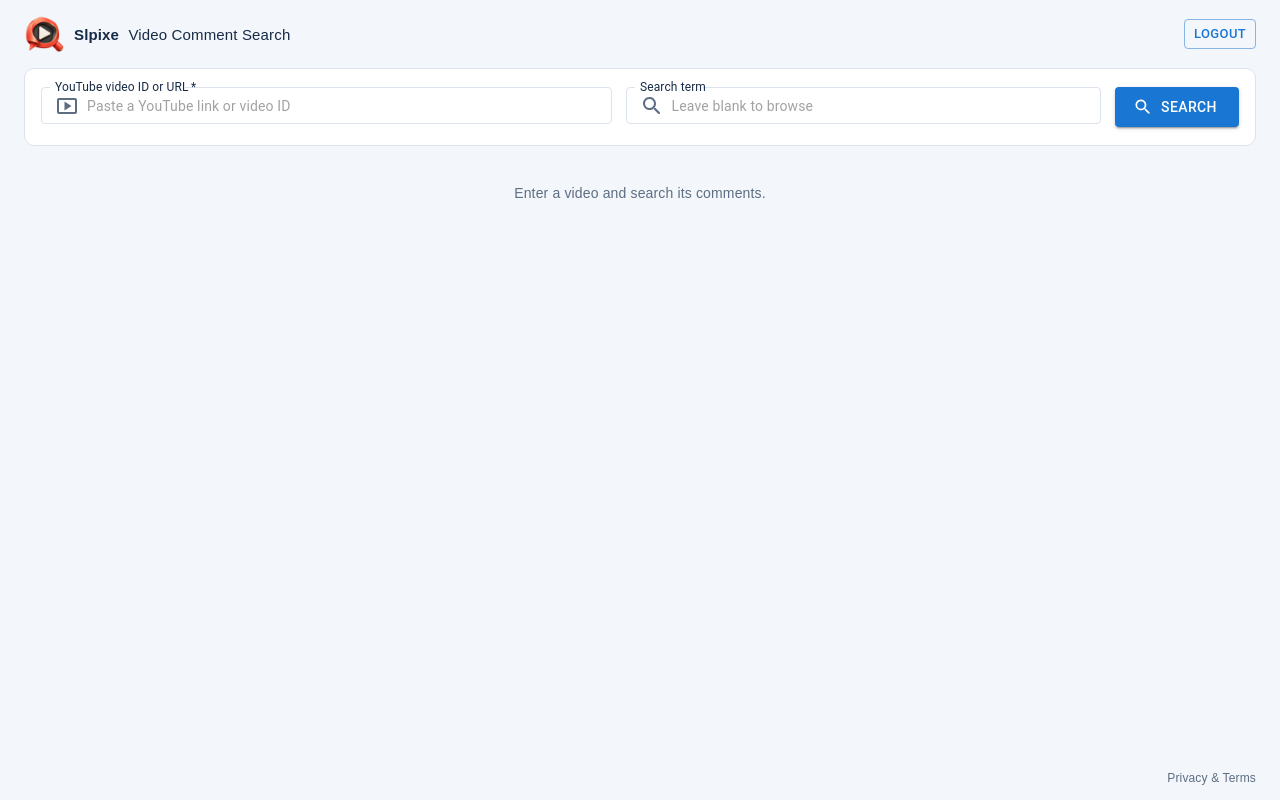
Test: VideoCommentsSearch › accepts links, sends the search term and app key without a Google token, and preserves other URL parameters
Type " song " into the search field labelled "Search term" at x=886, y=106, box [672,87,1101,124]
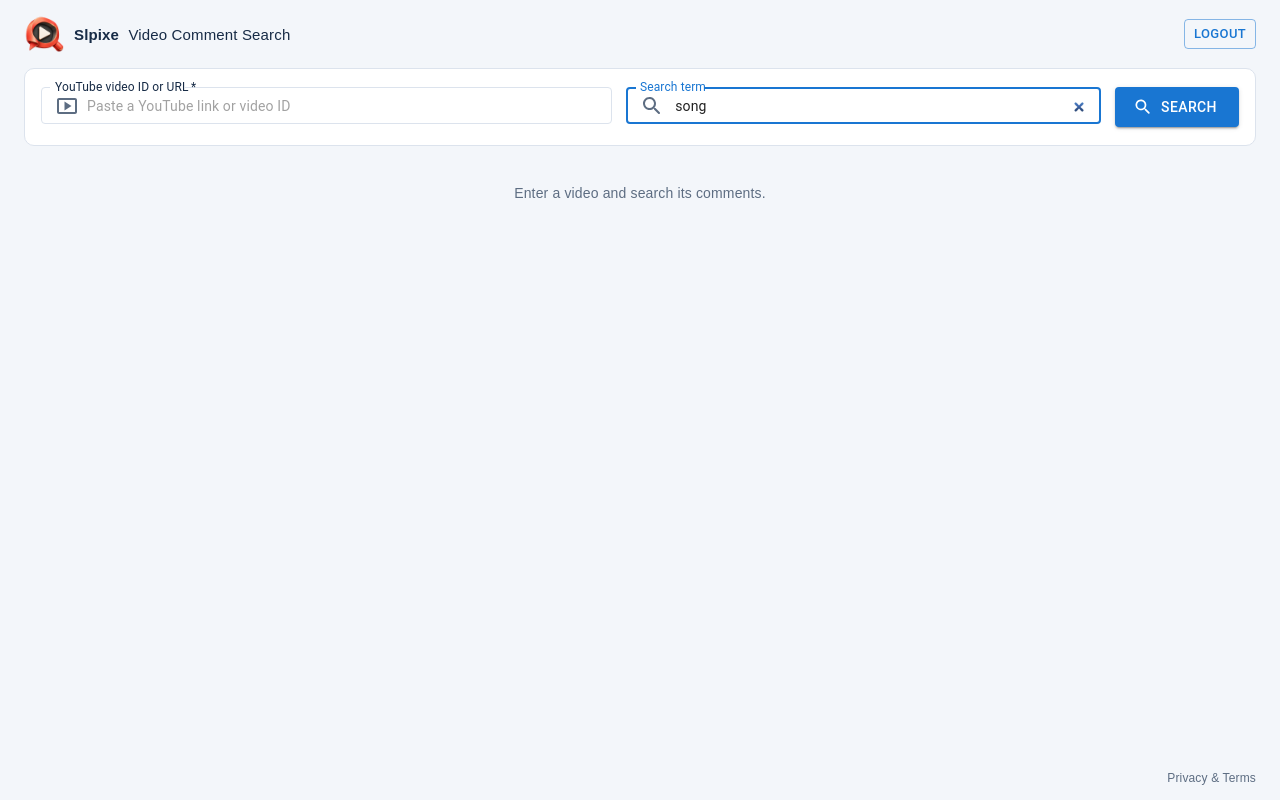
Type "https://youtu.be/kJQP7kiw5Fk?t=10" into the field labelled "YouTube video ID or URL *" at x=349, y=106, box [87,87,612,124]
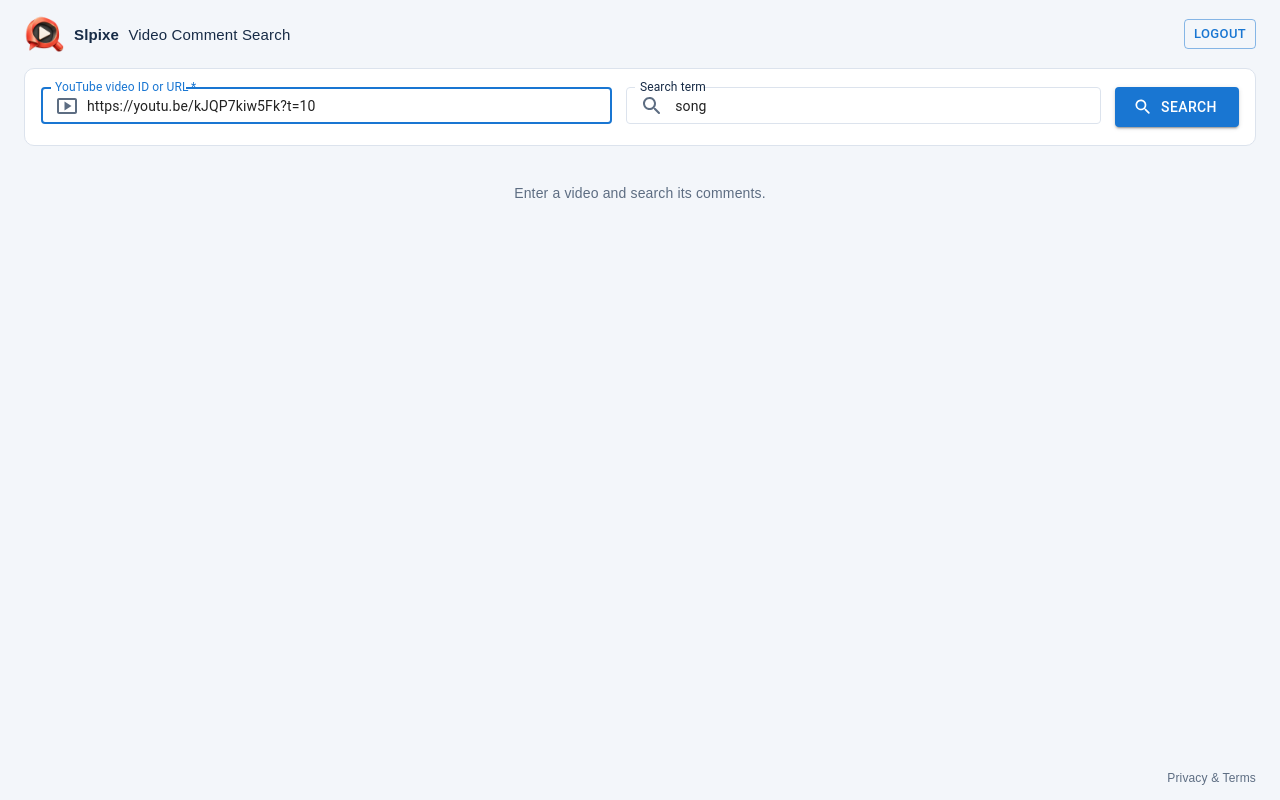
Click the button "Search" at x=1177, y=107, box [1115,87,1239,127]
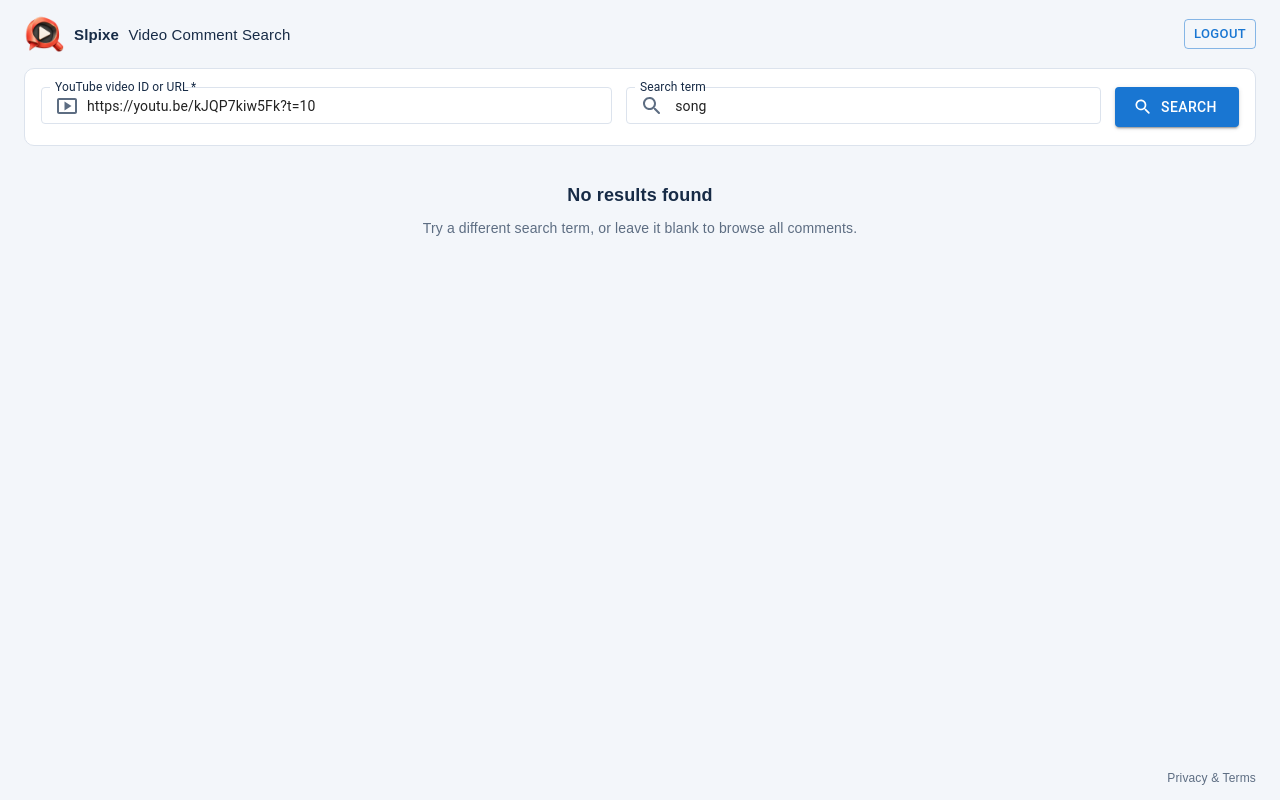
Expected: the heading "No results found" is shown, [567,185,713,205]
